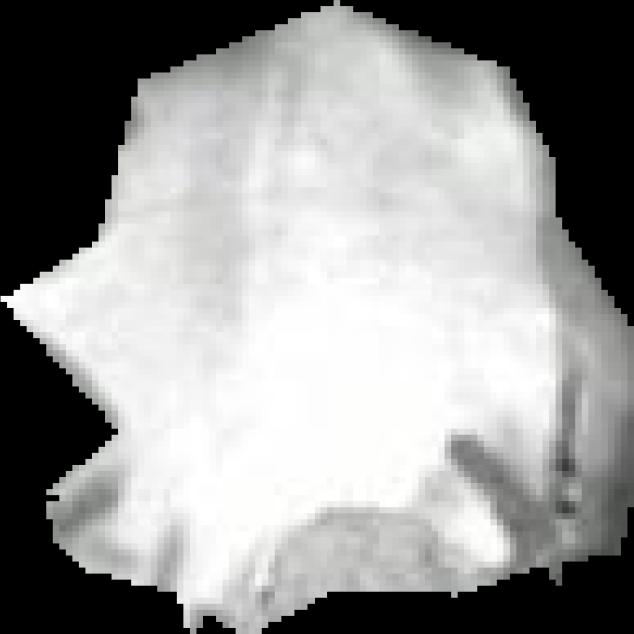tumor_less_chance: (1, 0, 634, 634)
